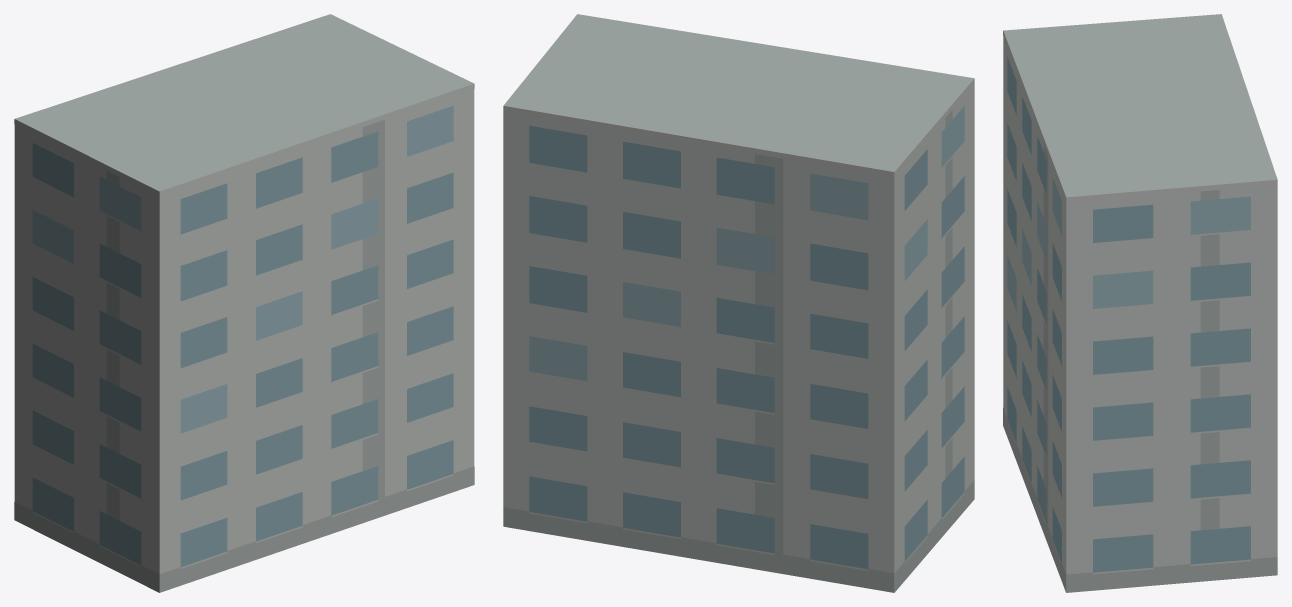
The model's file is survey-upis-33010567.glb.
The picture shows the model from 3 angles, left to right: view 1: azimuth 30°, elevation 25°; view 2: azimuth 150°, elevation 25°; view 3: azimuth 270°, elevation 25°; orthographic projection. The views are drawn at different scales.
Visible parts, largest first — view 1: survey-upis-33010567.tmp; view 2: survey-upis-33010567.tmp; view 3: survey-upis-33010567.tmp.
Part boxes in pixels (left/top/right/bottom): survey-upis-33010567.tmp: left=14, top=14, right=474, bottom=592; survey-upis-33010567.tmp: left=503, top=14, right=974, bottom=592; survey-upis-33010567.tmp: left=1003, top=14, right=1277, bottom=592.
Bounding box in the file's own units: 18.2 × 18.3 × 11.52.
